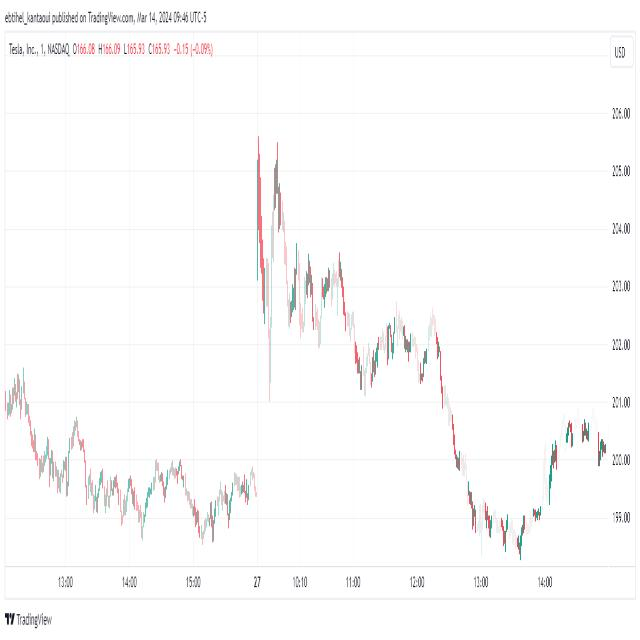Triple-Top: (288, 247, 355, 337)
